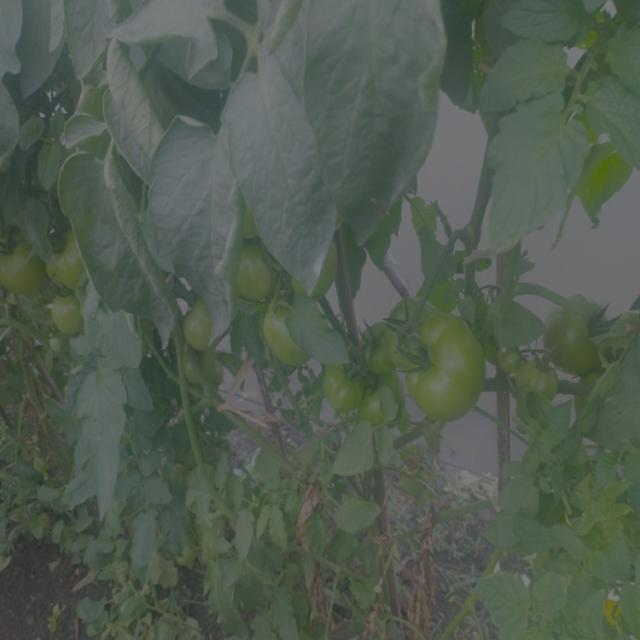tomato: (400, 308, 490, 424), (542, 310, 608, 370), (264, 309, 329, 367), (46, 234, 101, 289), (2, 222, 42, 297), (238, 246, 281, 307), (296, 250, 350, 295), (179, 300, 219, 352), (50, 294, 95, 338), (502, 349, 538, 392), (364, 320, 392, 374), (327, 370, 362, 409), (368, 383, 398, 427), (181, 357, 223, 382)
